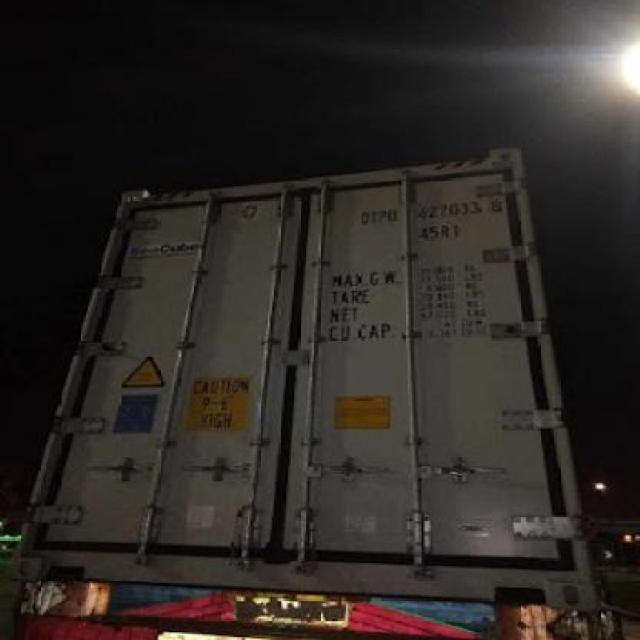ISO: (419, 222, 462, 242)
container_number: (353, 192, 511, 226)
